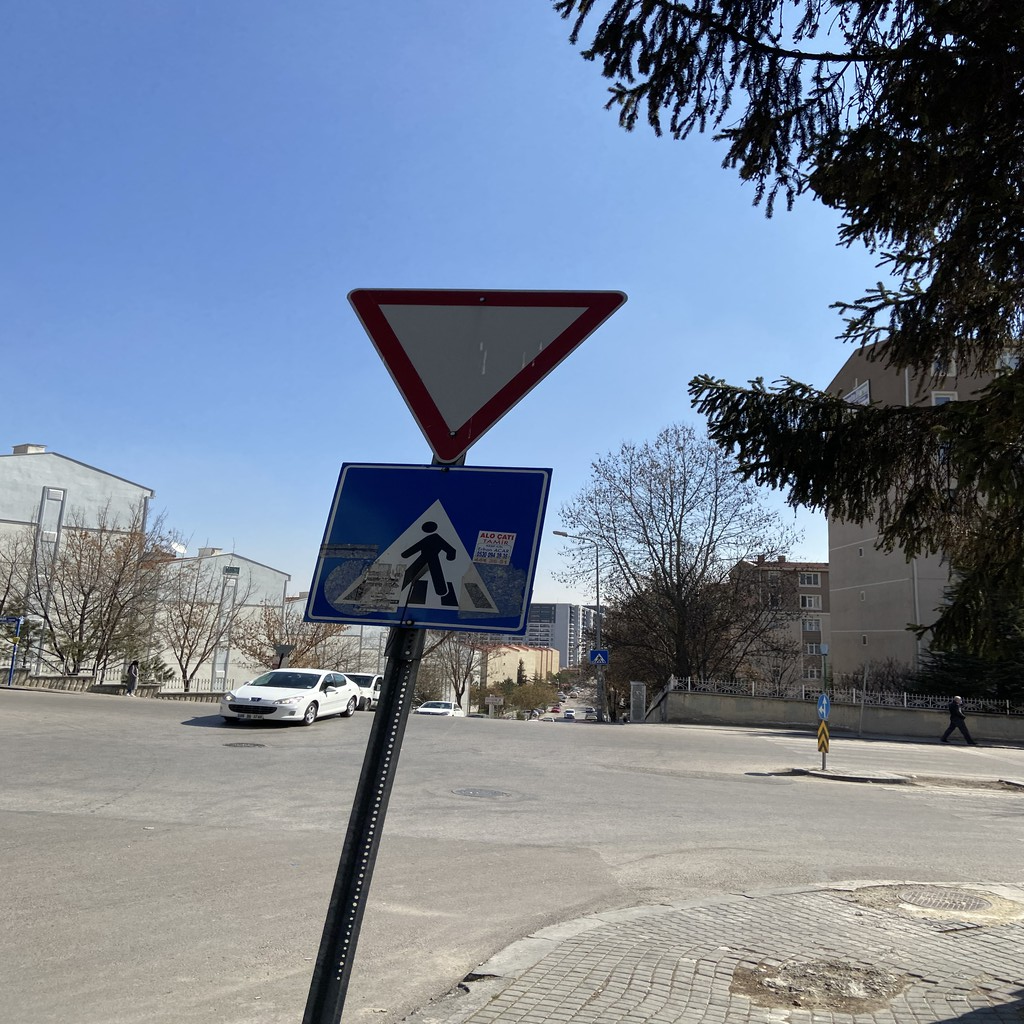Yaya Gecidi: (324, 466, 539, 621)
Yol Ver: (339, 266, 631, 455)
